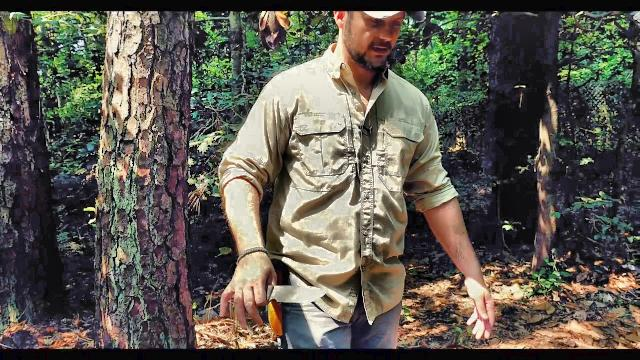knife: (226, 280, 334, 312)
